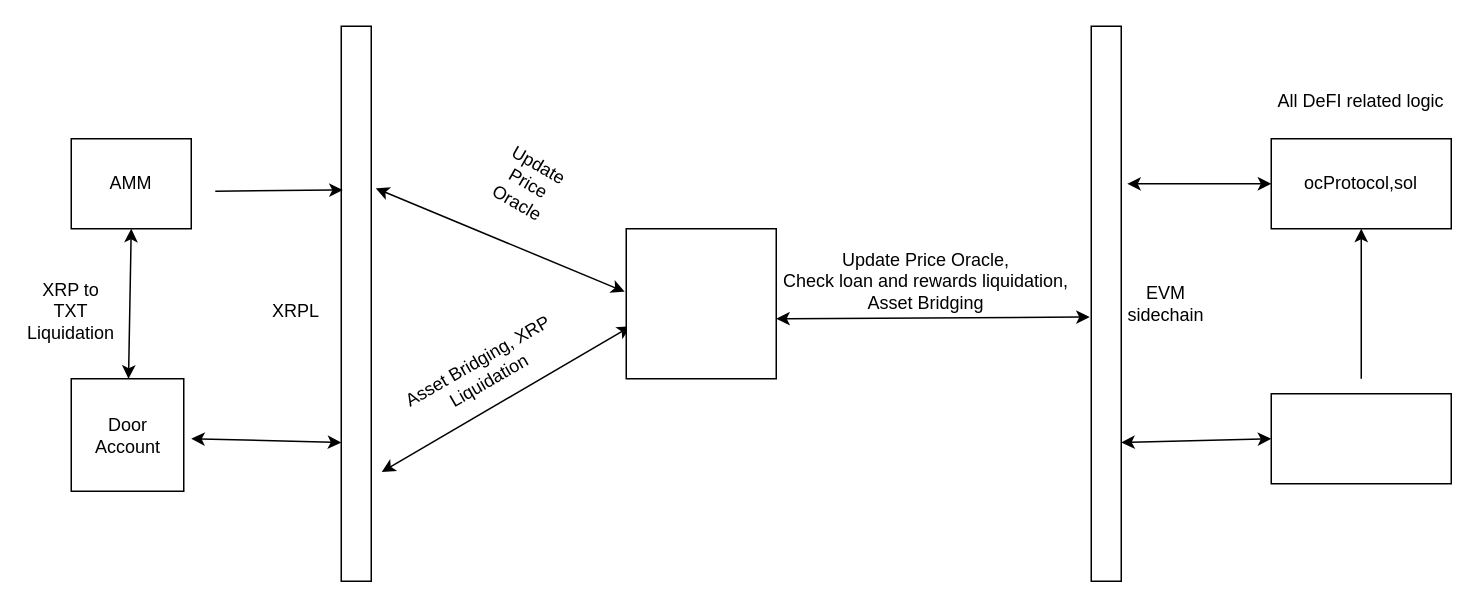
This 1478x608 diagram has some shape labels left out. The centre of each missing label's shape, as x and y in pixels:
"Price Oracle" goes at pixel 1360 438.
"Witness Server" goes at pixel 700 303.
